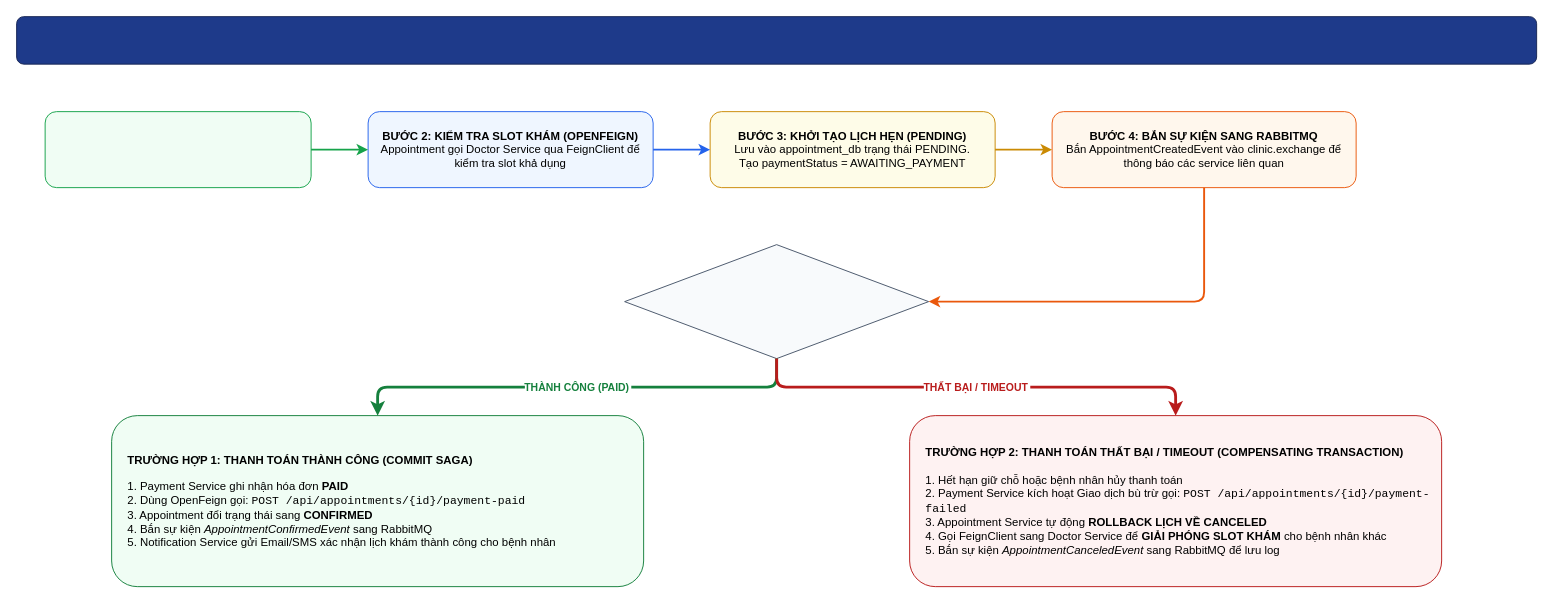
Some shapes in this 1553 by 603 pixel diagram are drawn without their labels. The centre of each missing label's shape, as x and y in pixels:
BƯỚC 1: BỆNH NHÂN ĐẶT LỊCH Bệnh nhân chọn Bác sĩ, Ngày & Khung giờ khám: point (177, 149)
BỆNH NHÂN THANH TOÁN VIỆN PHÍ QUA QR CODE?: point (776, 301)
LUỒNG GIAO DỊCH PHÂN TÁN SAGA (SAGA PATTERN) GIỮA APPOINTMENT VÀ PAYMENT: point (776, 40)
